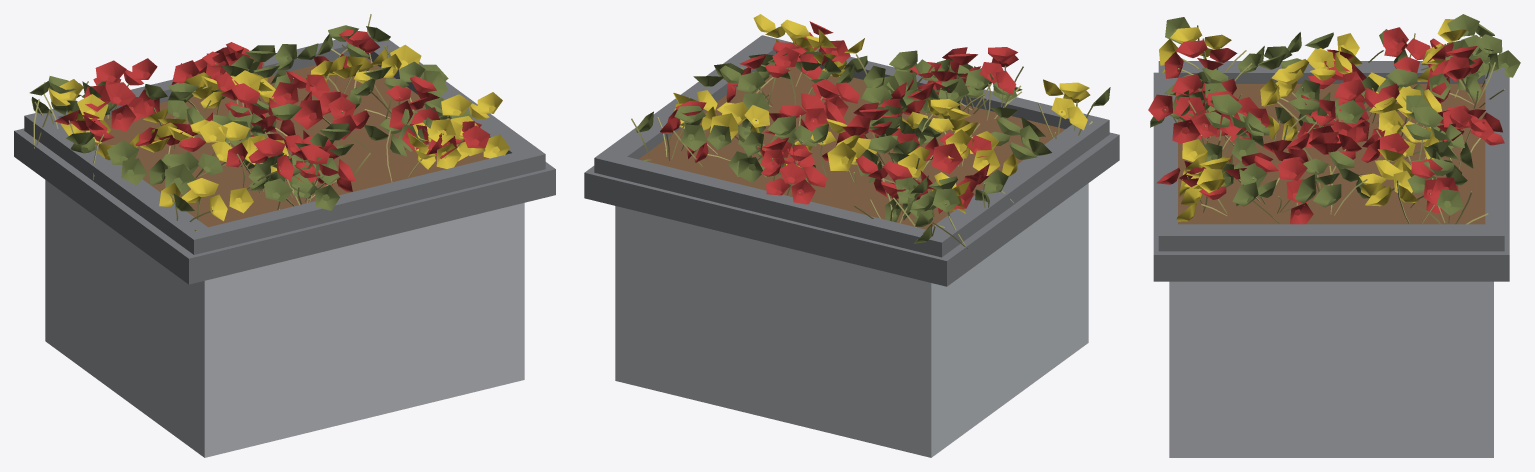
The model's file is SM_flowerbox_large_01.fbx.
3 views of the same model, side by side, from view 1: azimuth 30°, elevation 25°; view 2: azimuth 150°, elevation 25°; view 3: azimuth 270°, elevation 25° (orthographic). The views are drawn at different scales.
Visible parts, largest first — view 1: Box233; view 2: Box233; view 3: Box233.
Boxes of the visible parts, bbox=[...] form: Box233: bbox=[14, 14, 555, 457]; Box233: bbox=[584, 14, 1119, 457]; Box233: bbox=[1148, 14, 1520, 457].
Size of the model in its own units: 61.66 by 52.91 by 45.66.
